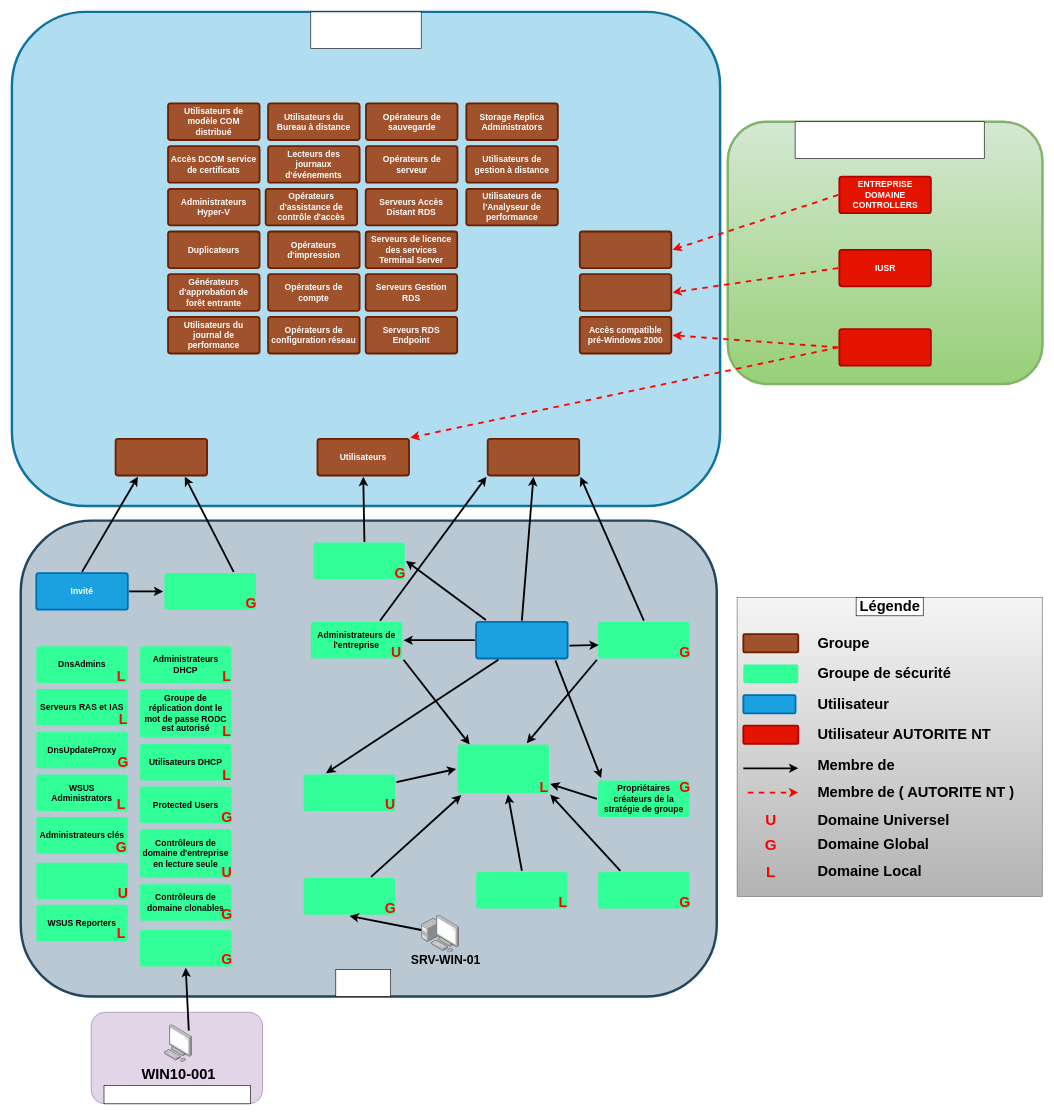
The diagram is 1054 pixels wide and 1117 high, and some of its shapes have lost their labels. Each missing label, with the box of its shape:
Administrateur: (475, 621, 568, 659)
Administrateurs: (486, 438, 580, 476)
Administrateurs clés Entreprise: (36, 863, 127, 899)
Administrateurs du schéma: (303, 774, 395, 811)
Admins du domaine: (598, 622, 689, 658)
Builtin: (310, 11, 421, 48)
Contrôleurs de domaine: (303, 878, 395, 914)
Contrôleurs de domaine en lecture seule: (598, 872, 689, 908)
Domain Controllers: (103, 1085, 250, 1104)
Groupe d'accès d'autorisation Windows: (579, 230, 672, 269)
Groupe de réplication dont le mot de passe RODC est refusé: (457, 744, 549, 793)
IIS_IUSRS: (579, 273, 672, 311)
Invités: (114, 438, 208, 476)
Invités du domaine: (164, 573, 256, 609)
Ordinateurs du domaine: (140, 930, 231, 966)
Users: (335, 969, 391, 996)
Utilisateurs authentifiés: (838, 328, 931, 366)
Utilisateurs AUTORITE NT: (795, 121, 984, 158)
Utilisateurs du domaine: (313, 542, 404, 579)
Éditeurs de certificats: (476, 872, 567, 908)
